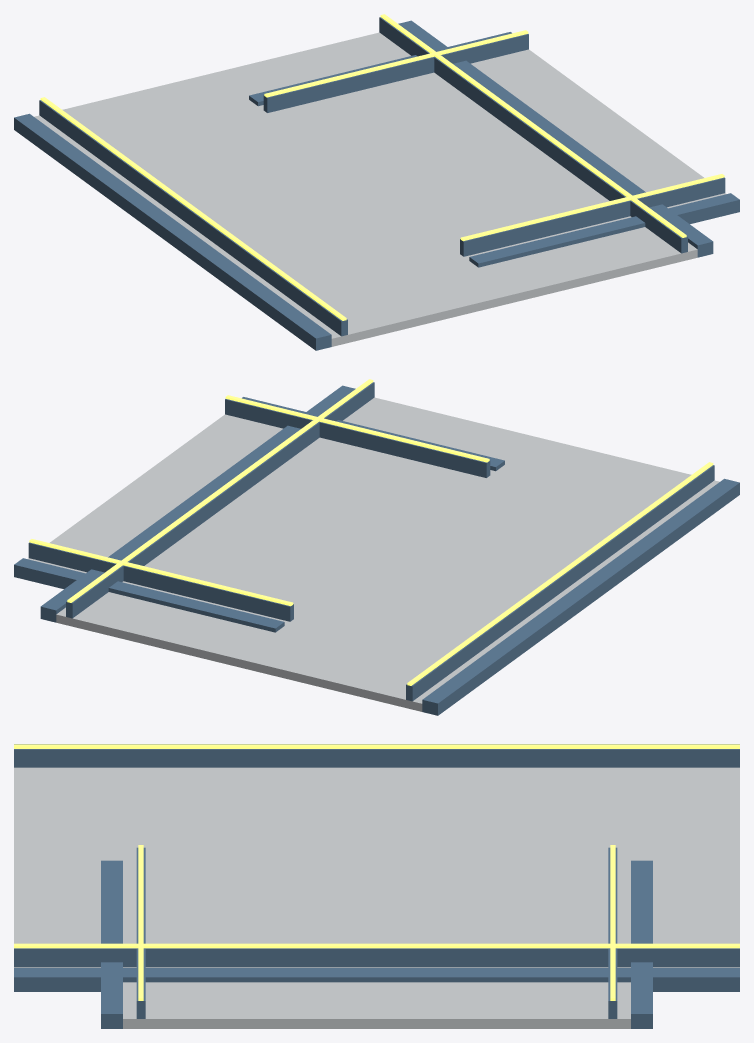
The model's file is road_industrial_x_tee_lod1.glb.
3 renders of one model, top to bottom at view 1: azimuth 30°, elevation 25°; view 2: azimuth 150°, elevation 25°; view 3: azimuth 270°, elevation 25°, orthographic. The views are drawn at different scales.
Visible parts, largest first — view 1: body; view 2: body; view 3: body.
Part boxes in pixels (x1=…): body: x1=14, y1=14, x2=739, y2=350; body: x1=14, y1=379, x2=739, y2=715; body: x1=14, y1=744, x2=739, y2=1028.
Bounding box in the file's own units: 7.04 × 0.37 × 8.
